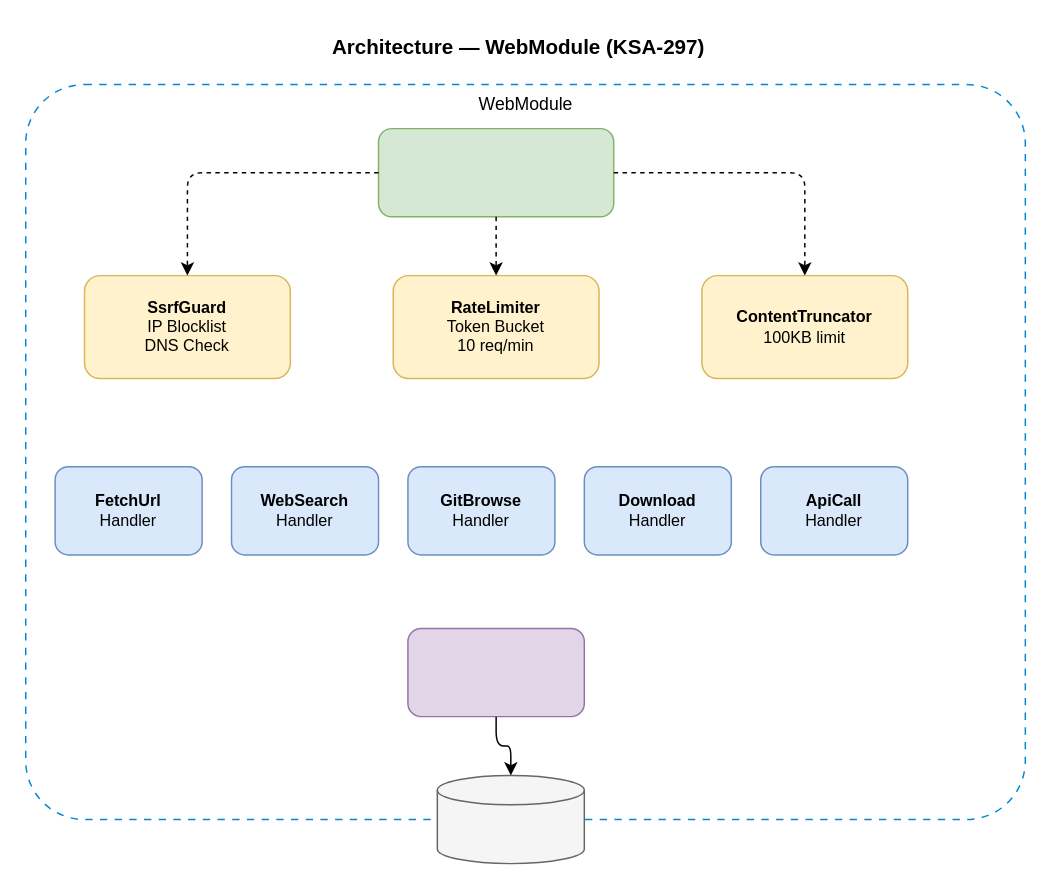
Some shapes in this 1051 by 889 pixel diagram are drawn without their labels. Each missing label, with the box of its shape:
Playwright Chromium: (436, 774, 584, 864)
ReadWebpage Handler: (406, 627, 584, 717)
WebModule (IModule): (377, 127, 614, 217)
